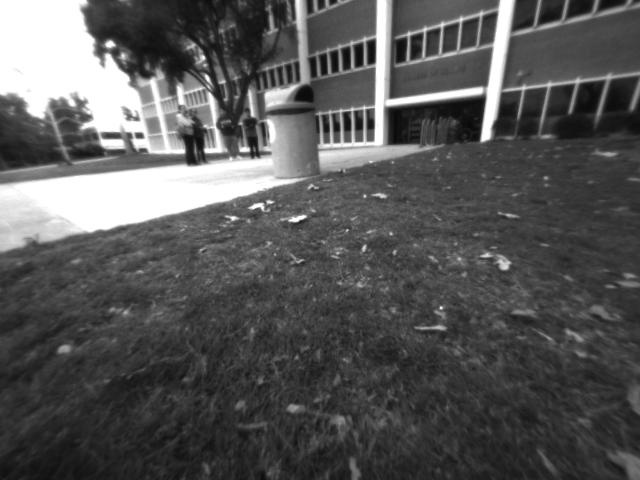trashcan: (256, 82, 326, 181)
